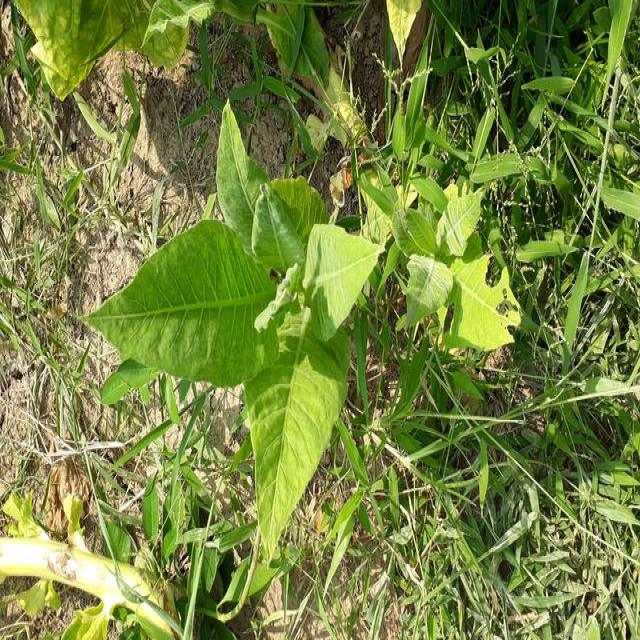crop: (96, 113, 356, 537)
